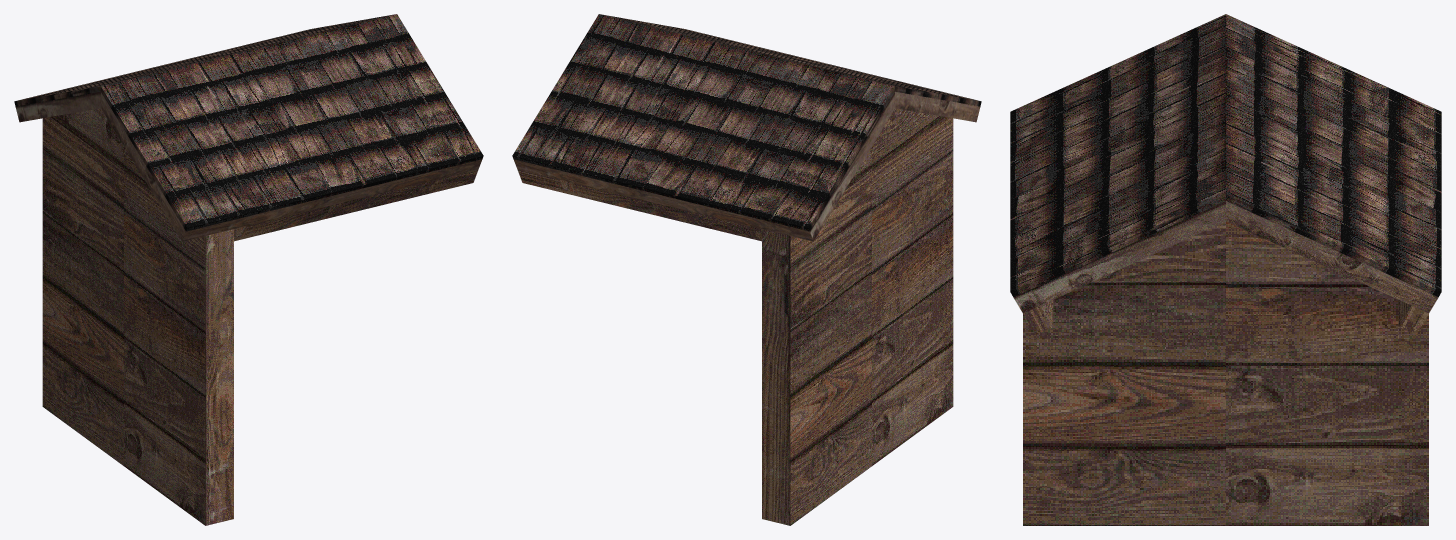
Rendered from roof-topL.glb.
3 views of the same model, side by side, from view 1: azimuth 30°, elevation 25°; view 2: azimuth 150°, elevation 25°; view 3: azimuth 270°, elevation 25° (orthographic). The views are drawn at different scales.
Visible parts, largest first — view 1: roof-topL.001; view 2: roof-topL.001; view 3: roof-topL.001.
Boxes of the visible parts, x1,y1,x2,y2 form: roof-topL.001: [14, 14, 483, 525]; roof-topL.001: [512, 14, 981, 525]; roof-topL.001: [1010, 14, 1441, 525].
Size of the model in its own units: 2.1 by 2.61 by 2.13.
2 materials, 2 textured.
